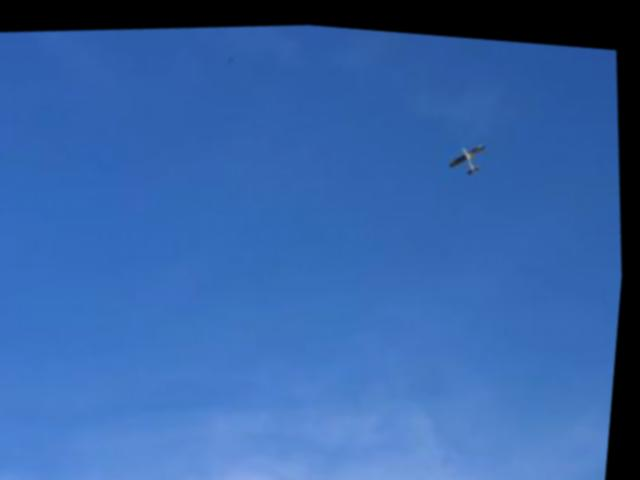uav: (447, 129, 494, 171)
